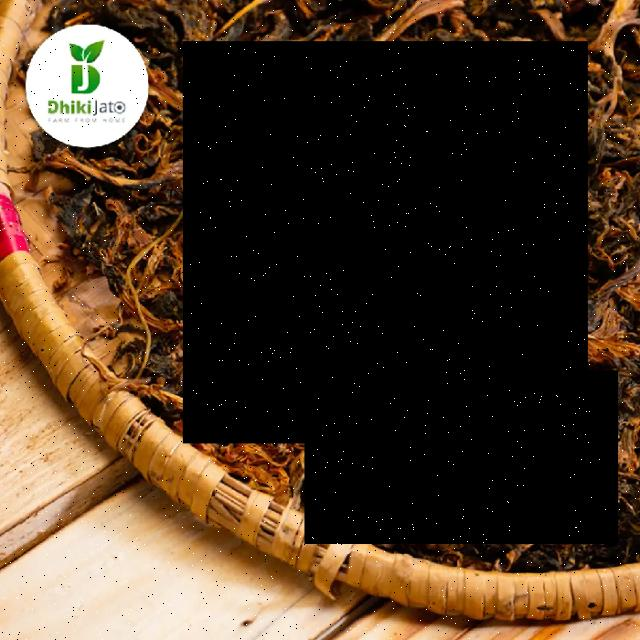Gundruk: (183, 42, 588, 444), (305, 371, 618, 545)
